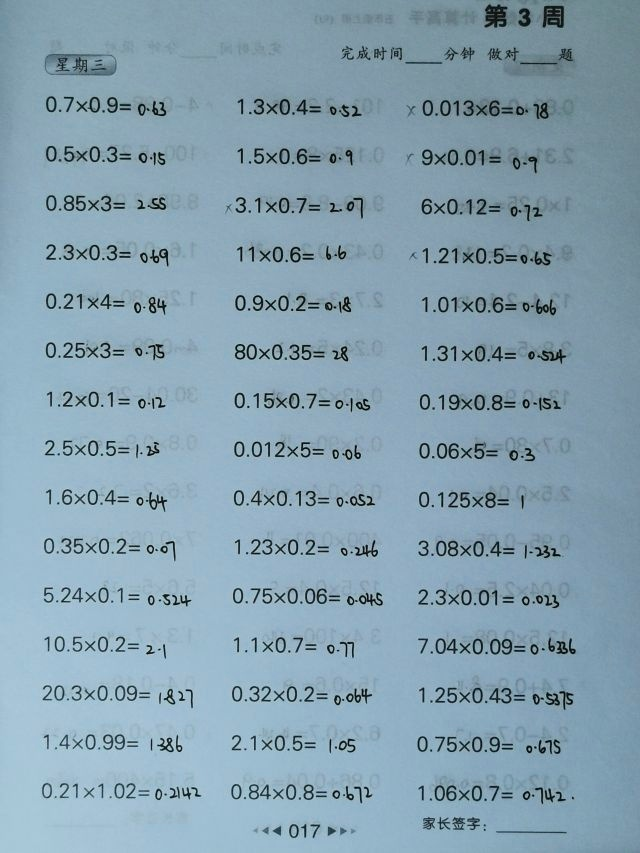equation: (415, 682, 577, 710), (38, 680, 196, 708), (223, 193, 368, 223), (226, 779, 375, 808), (37, 778, 204, 803), (402, 95, 556, 122), (227, 583, 386, 609), (417, 340, 570, 367), (403, 144, 542, 173), (39, 582, 194, 608), (414, 584, 562, 611), (414, 782, 567, 808), (38, 533, 180, 561), (230, 534, 382, 560), (413, 731, 564, 757), (414, 535, 564, 561), (39, 729, 187, 755), (227, 681, 375, 707), (416, 193, 547, 222), (229, 486, 380, 511), (405, 243, 556, 268), (229, 388, 373, 414), (416, 390, 565, 415), (418, 292, 560, 318), (41, 631, 171, 659), (41, 484, 171, 512), (229, 436, 365, 462), (42, 240, 172, 267), (42, 92, 171, 119), (229, 632, 357, 659), (227, 730, 359, 756), (41, 290, 170, 316), (41, 141, 169, 167), (42, 386, 169, 412), (233, 94, 365, 119), (41, 337, 167, 363), (414, 438, 539, 464), (230, 290, 354, 316), (229, 339, 352, 365), (41, 435, 163, 461), (41, 191, 170, 215), (234, 143, 356, 168), (234, 242, 351, 267), (414, 487, 527, 512)
